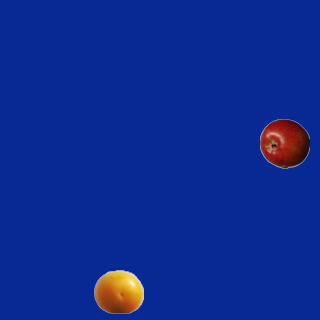Apple Braeburn: (259, 118, 309, 168)
Cherry Wax Yellow: (93, 266, 143, 316)
